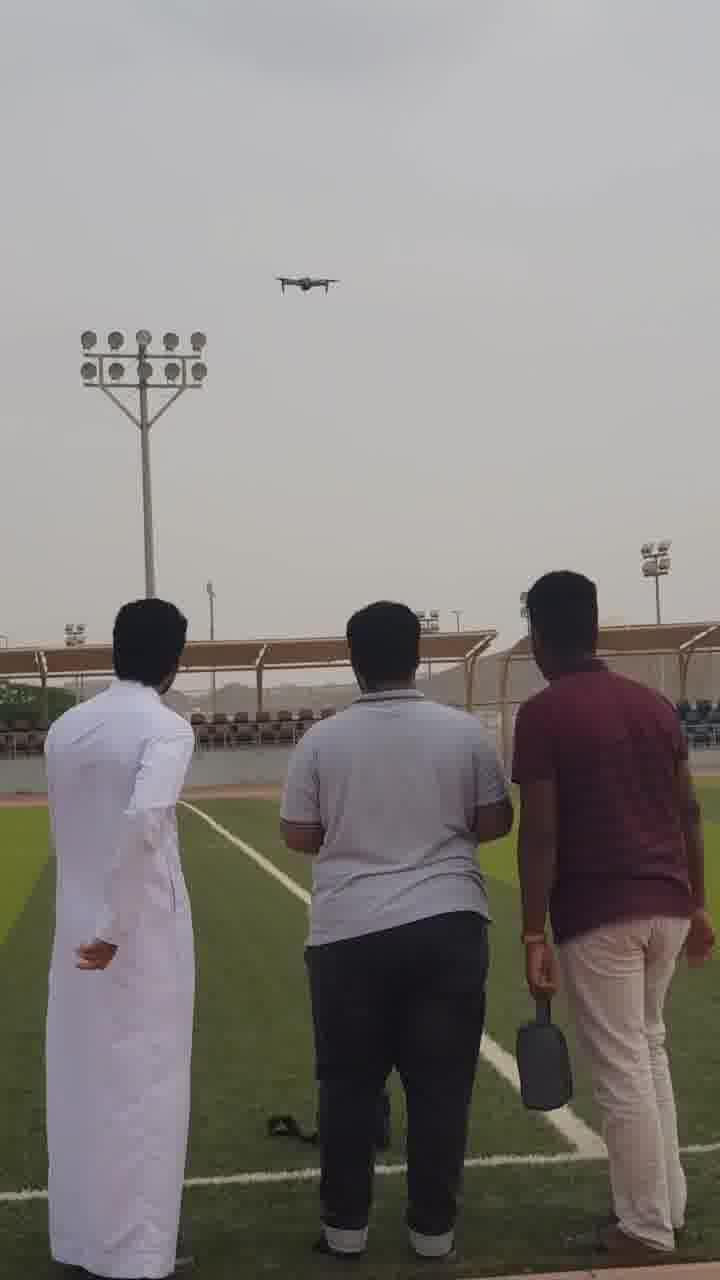drone: (261, 264, 348, 301)
